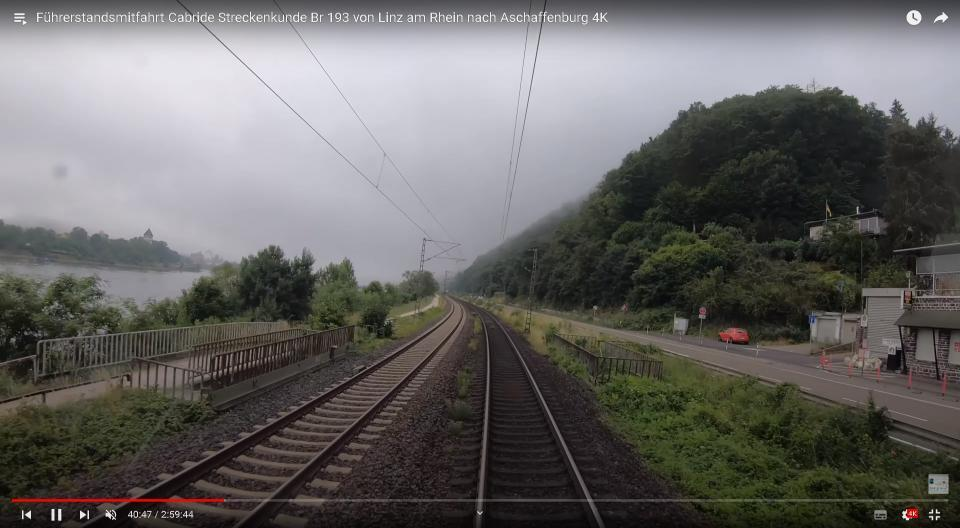Plant: (446, 399, 472, 435), (458, 366, 472, 399), (474, 316, 482, 333), (468, 338, 478, 350)
